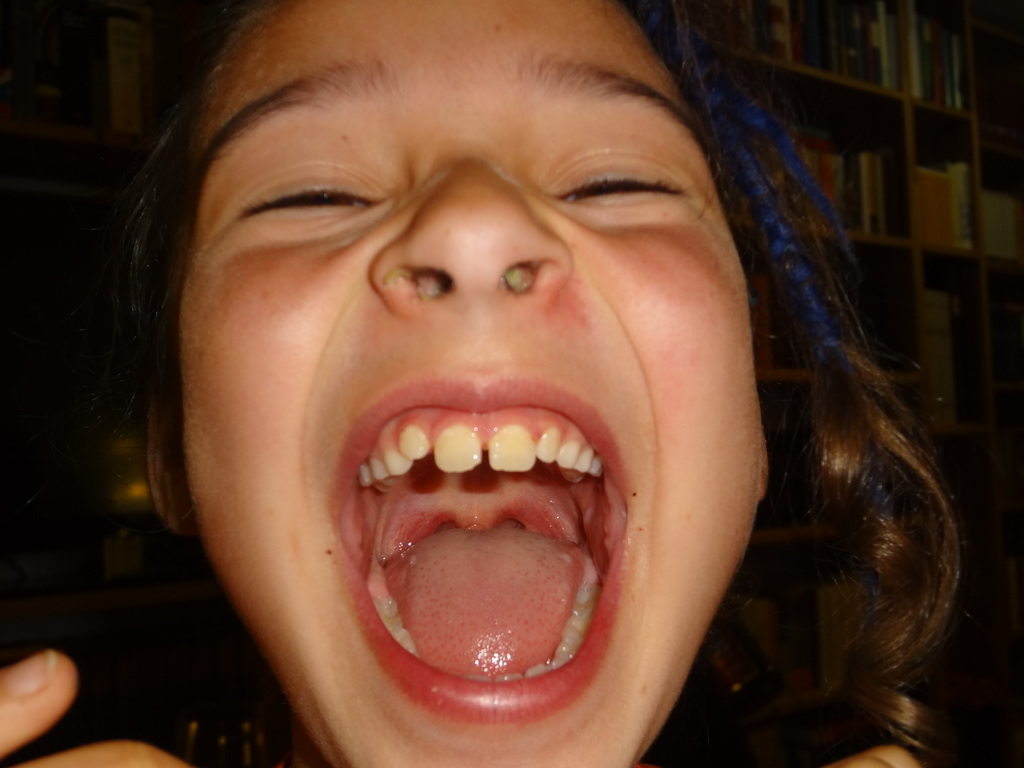Person: (0, 0, 970, 767)
